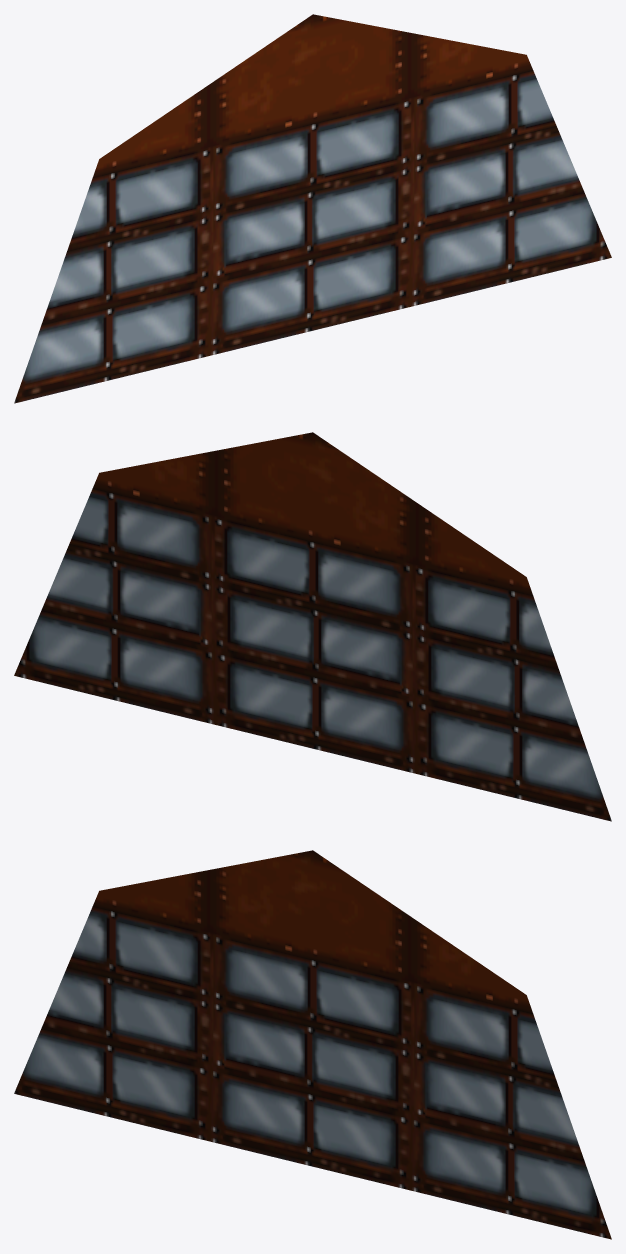
Rendered from halbtonne_abschlusz2_1130.glb.
3 views of the same model, one above another, from view 1: azimuth 30°, elevation 25°; view 2: azimuth 150°, elevation 25°; view 3: azimuth 330°, elevation 25° (orthographic).
Visible parts, largest first — view 1: polySurfaceShape1; view 2: polySurfaceShape1; view 3: polySurfaceShape1.
Boxes of the visible parts, left/top/right/bottom form: polySurfaceShape1: left=14, top=14, right=611, bottom=403; polySurfaceShape1: left=14, top=432, right=611, bottom=821; polySurfaceShape1: left=14, top=850, right=611, bottom=1239.
Bounding box in the file's own units: 1 × 0.5056 × 2.21e-08.
1 material, 1 textured.
